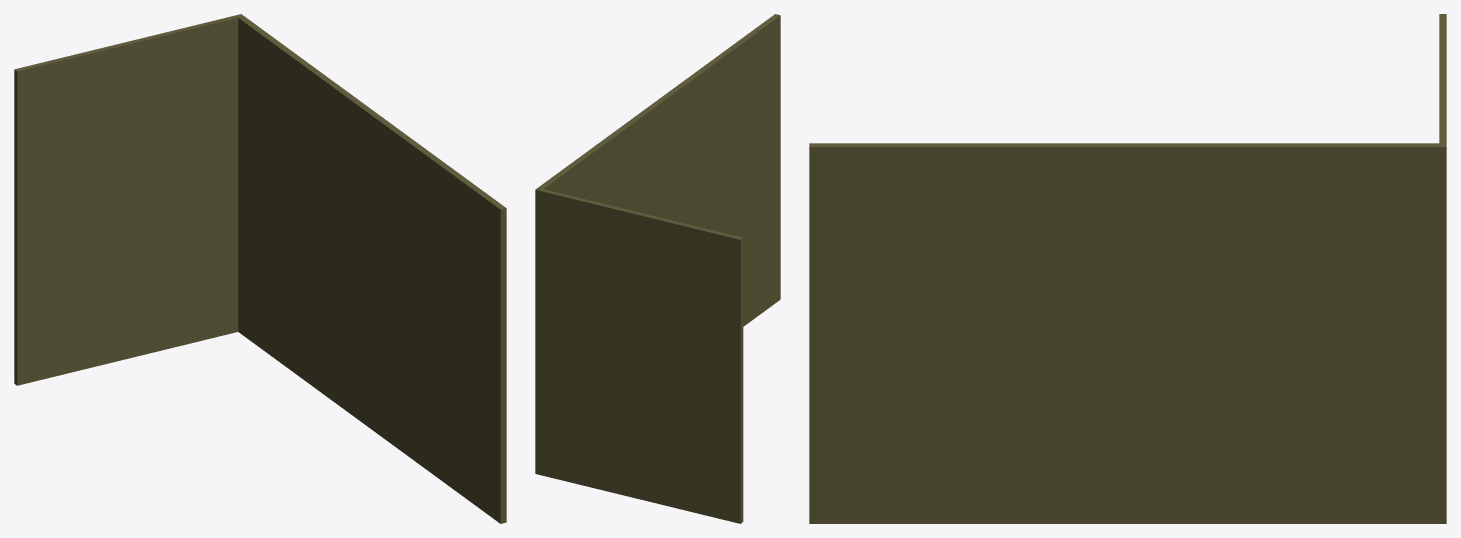
The model's file is Wall2.fbx.
The picture shows the model from 3 angles, left to right: view 1: azimuth 30°, elevation 25°; view 2: azimuth 150°, elevation 25°; view 3: azimuth 270°, elevation 25°; orthographic projection. The views are drawn at different scales.
Parts seen in each view (by area): view 1: Walls1; view 2: Walls1; view 3: Walls1.
Part boxes in pixels (box(x1,y1,x2,y2)): Walls1: box(14, 14, 506, 523); Walls1: box(535, 14, 780, 523); Walls1: box(809, 14, 1446, 523).
Bounding box in the file's own units: 530 × 701 × 1073.
Materials: 1 (1 with a texture image).
